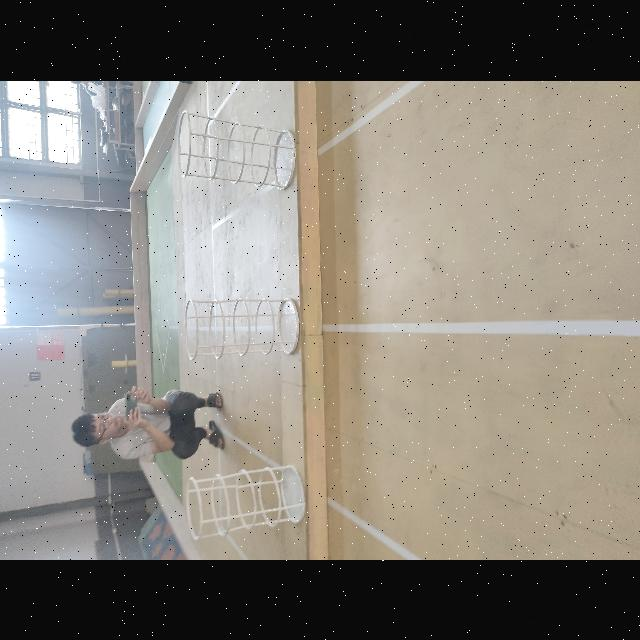S: (183, 462, 309, 544), (175, 109, 299, 190), (184, 295, 304, 361)
